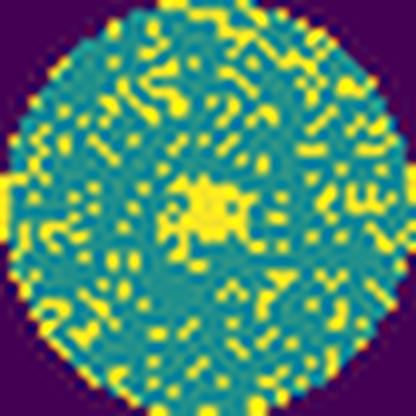Center: (158, 179, 258, 266)
